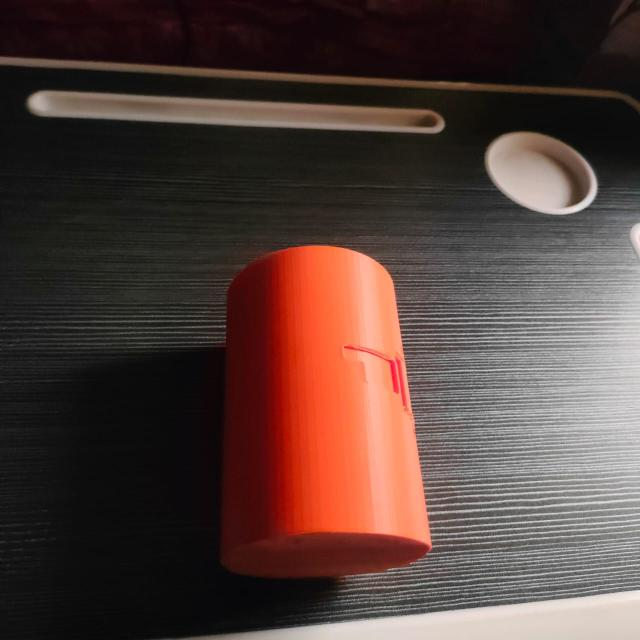Cylinder: (219, 243, 433, 579)
